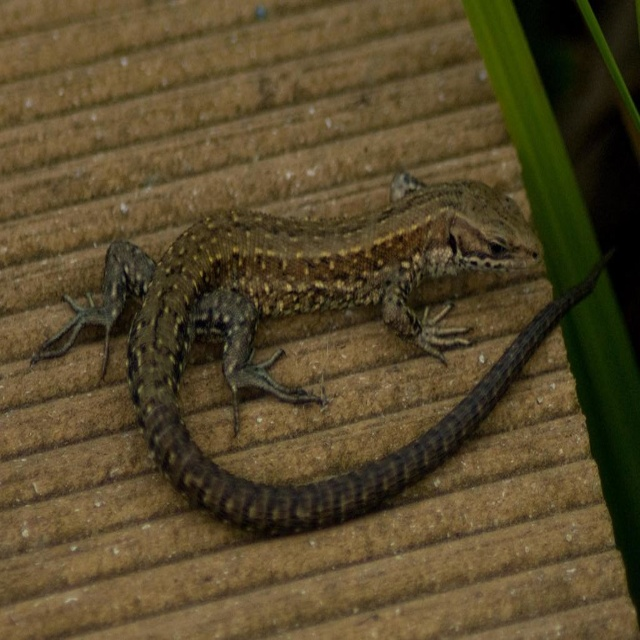Lizard: (32, 162, 606, 539)
